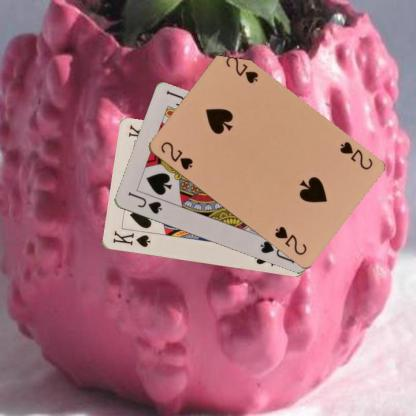2s: (336, 138, 374, 172), (157, 138, 194, 172)
Js: (125, 189, 163, 215)
Ks: (110, 228, 152, 249)
